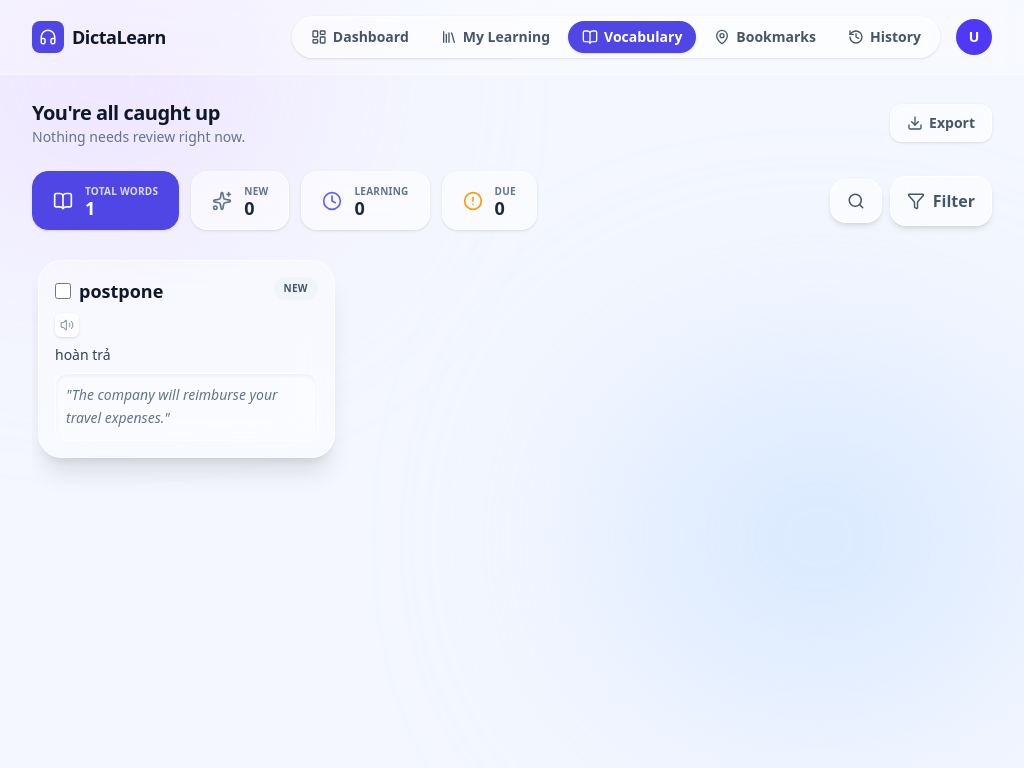
it: VocabularyPage › search collapse › preserves the query when Search is collapsed, and shows an active indicator
Expected: the number of elements with test id "vocab-card" is 1, [38,260,335,458]
Click the button named "Search": {"x": 856, "y": 200} [830,178,882,222]
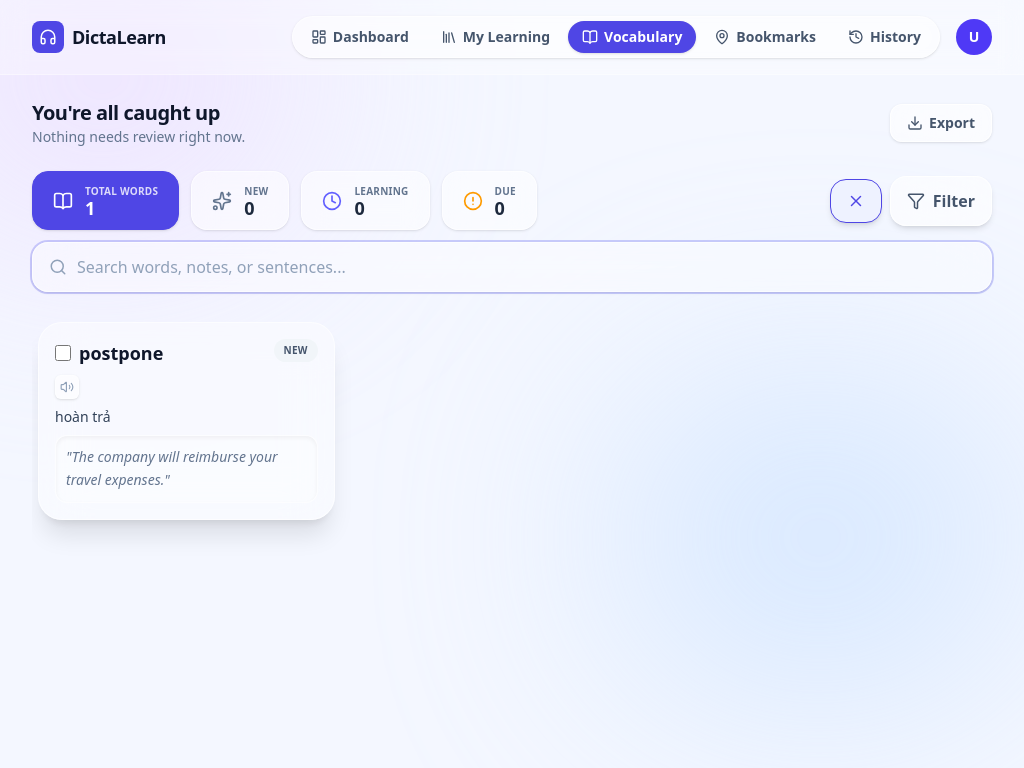
In the field with placeholder "Search words, notes, or sentences...": {"x": 512, "y": 267} [33,243,991,291], type "zzz"
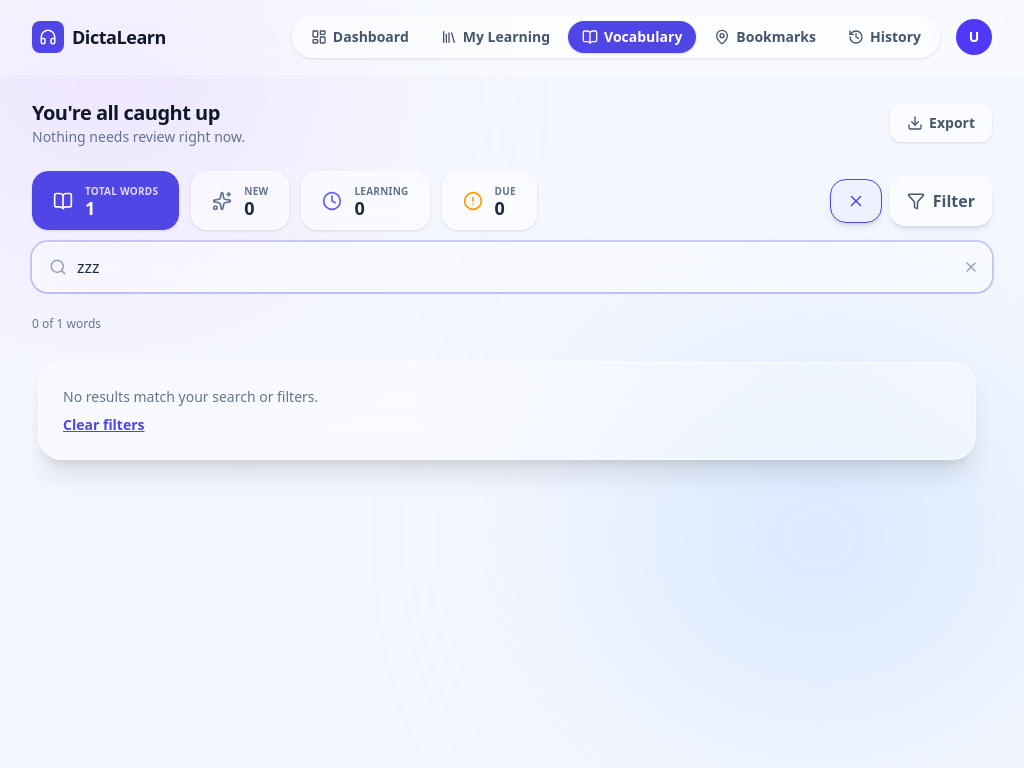
Click the button named "Close search": {"x": 856, "y": 200} [830,178,882,222]
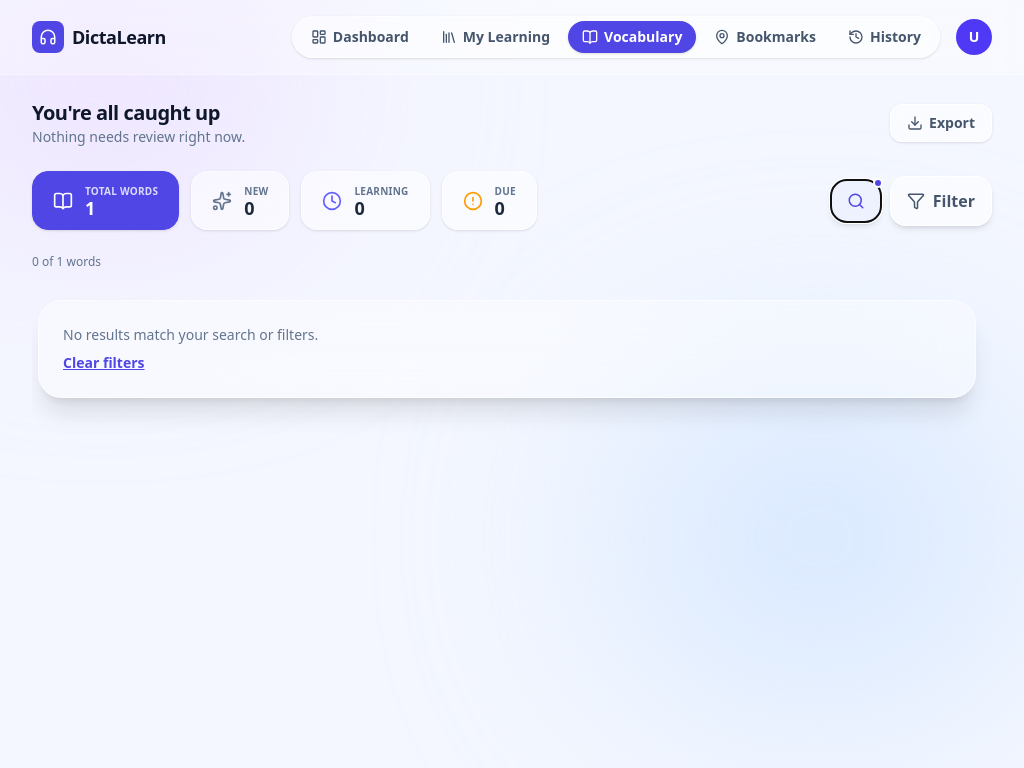
Expected: the field with placeholder "Search words, notes, or sentences..." is not shown
Result: the element with test id "search-active-indicator" is shown at [873,178,883,188]
Click the button named "Search (active)": {"x": 856, "y": 200} [830,178,882,222]
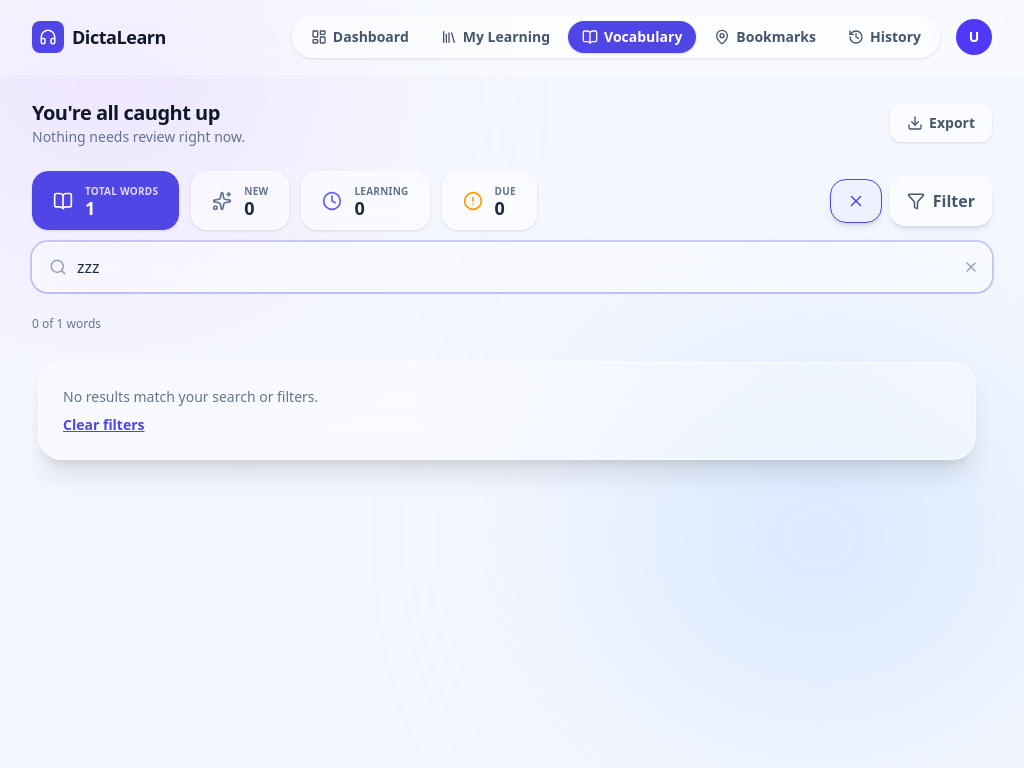
Result: the field with placeholder "Search words, notes, or sentences..." holds "zzz" at [33,243,991,291]
